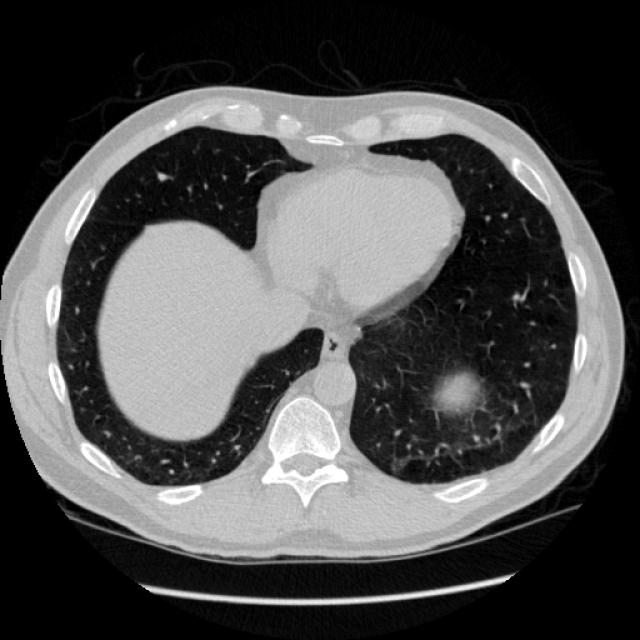nodule: (148, 162, 174, 188)
